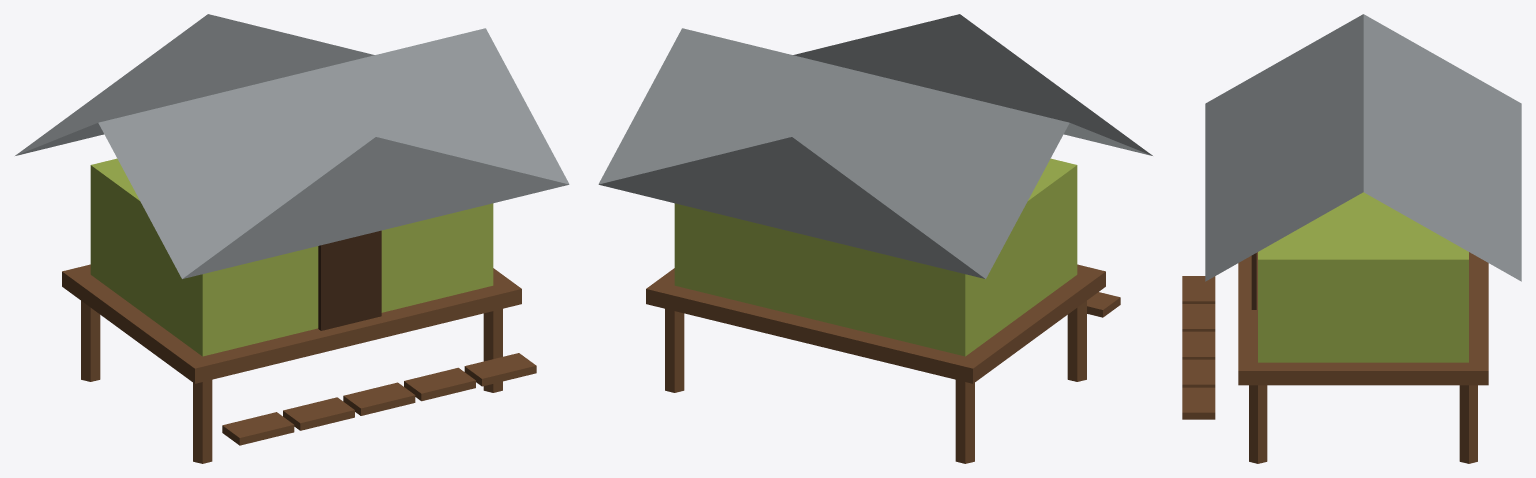
File: rumah_panggung.obj
3 renders of one model, left to right at view 1: azimuth 30°, elevation 25°; view 2: azimuth 150°, elevation 25°; view 3: azimuth 270°, elevation 25°, orthographic. The views are drawn at different scales.
Parts seen in each view (by area): view 1: roof, walls, floor, step, door, stilt; view 2: roof, walls, floor, stilt, step; view 3: roof, walls, floor, step, stilt.
Boxes of the visible parts, <box> form: roof: <box>15,14,569,278</box>; walls: <box>90,158,493,356</box>; floor: <box>62,264,521,383</box>; step: <box>222,353,536,445</box>; door: <box>318,230,381,330</box>; stilt: <box>81,301,502,463</box>; roof: <box>598,14,1152,278</box>; walls: <box>674,158,1077,356</box>; floor: <box>646,264,1105,383</box>; stilt: <box>665,301,1086,463</box>; step: <box>1087,292,1120,317</box>; roof: <box>1205,14,1521,281</box>; walls: <box>1258,192,1468,362</box>; floor: <box>1238,252,1488,385</box>; step: <box>1182,276,1215,419</box>; stilt: <box>1249,385,1477,463</box>.
Bounding box in the file's own units: 6.4 × 4.85 × 5.15.
